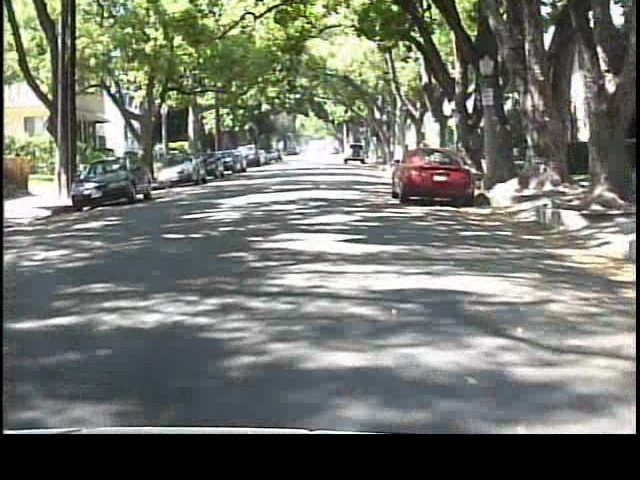person: (142, 143, 162, 185)
